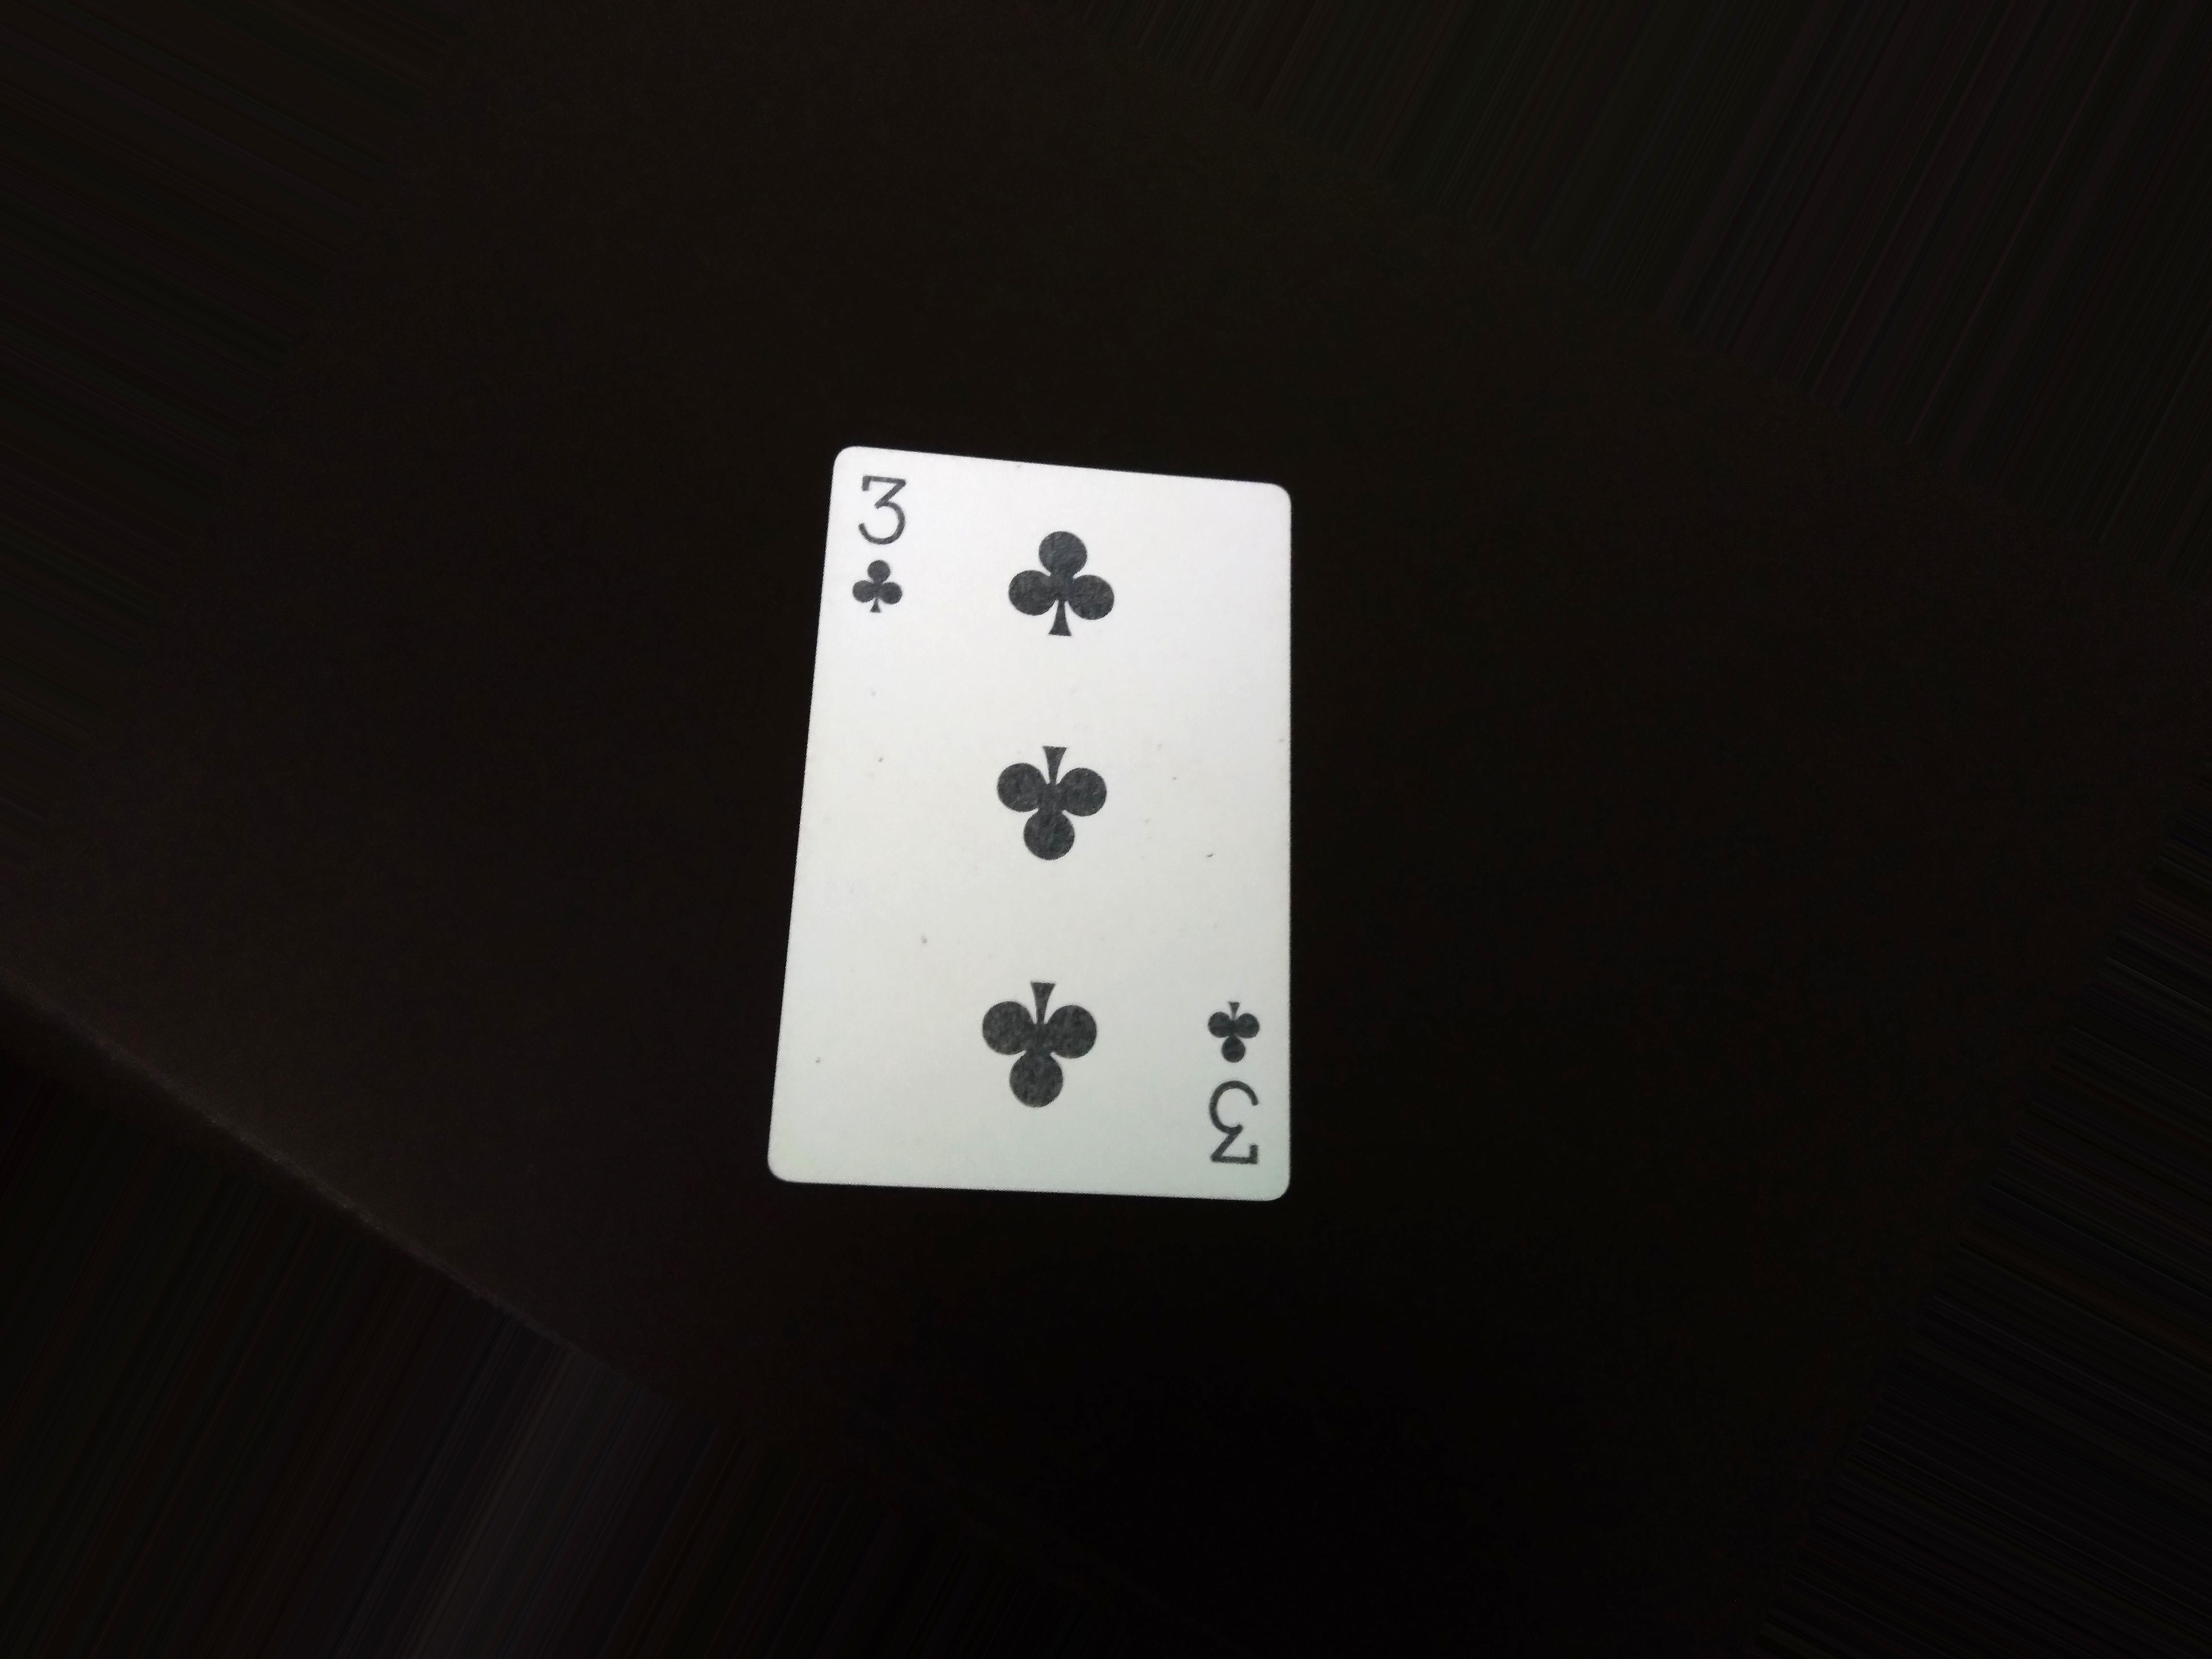3C: (840, 462, 930, 612)
